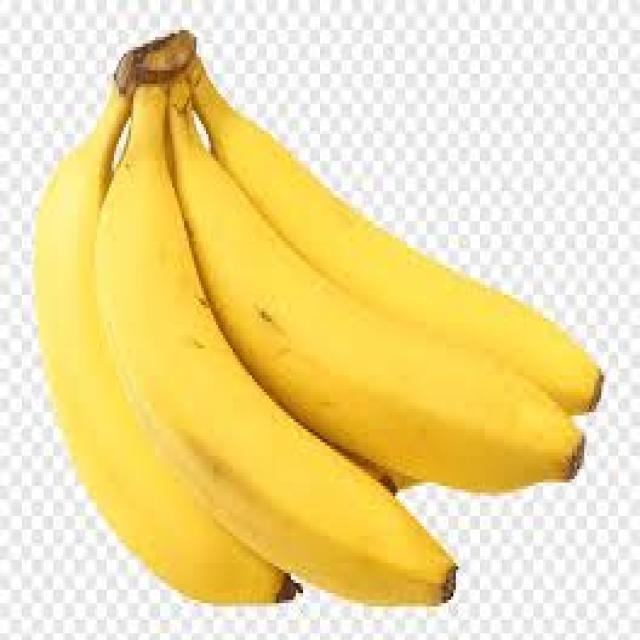banana: (29, 27, 604, 606)
